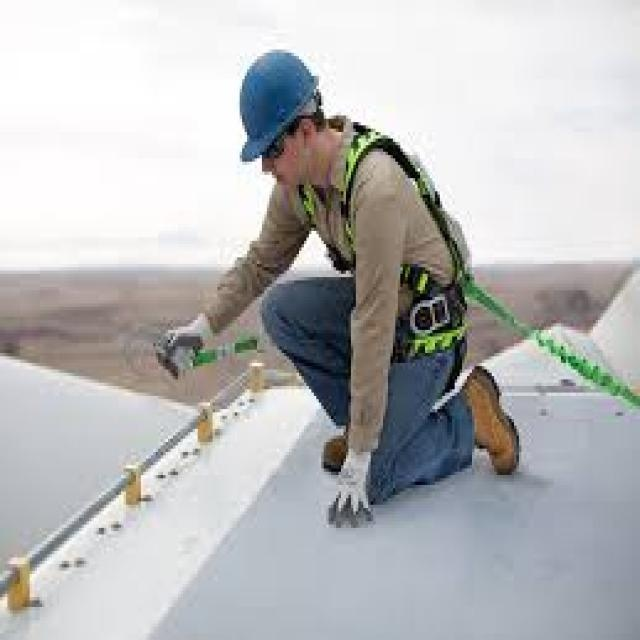Arnes_seguridad: (296, 122, 471, 368)
